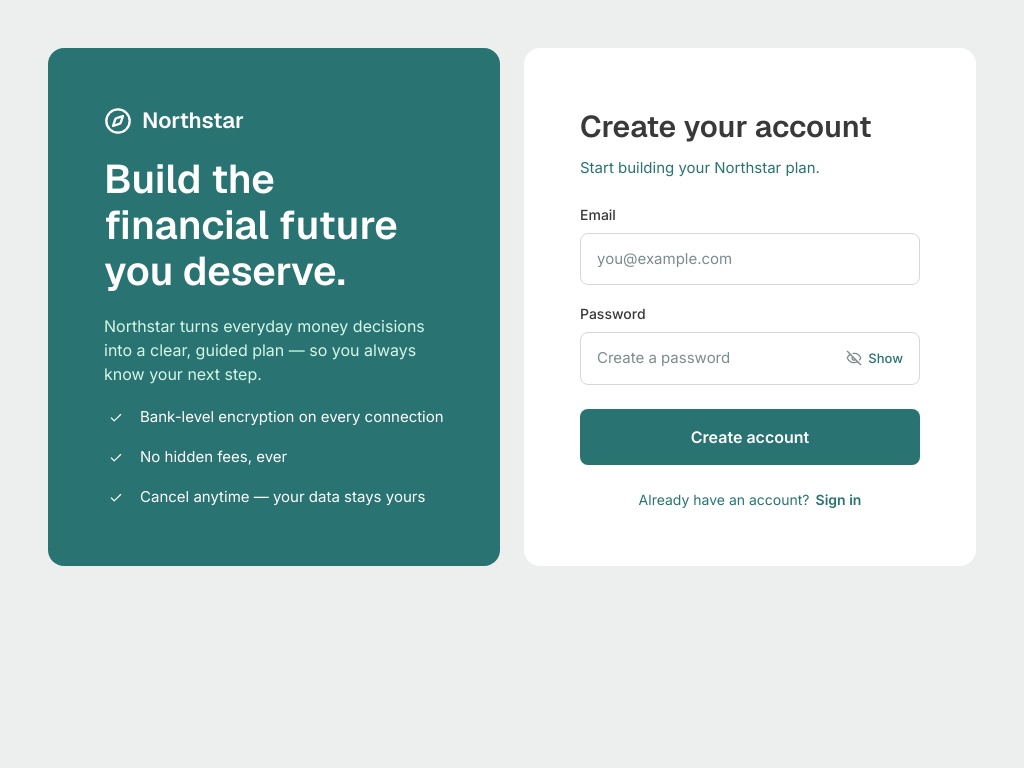
Test: an invalid registration › annotates a malformed email and contacts nobody (2.5)
The width and height of the screenshot is (1024, 768).
Step 1. Type "not-an-email" into the field labelled "Email" → x=750, y=259, box [597,248,903,270]
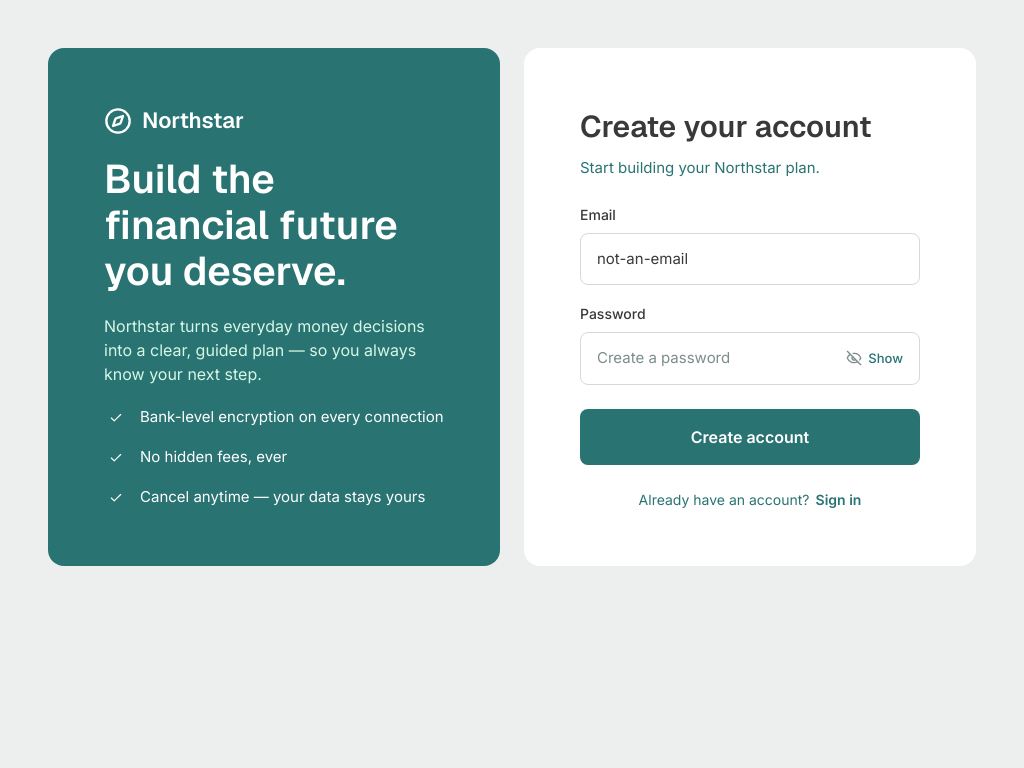
Step 2. Type "s3cret-pass" into the password field labelled "Password" → x=718, y=358, box [597,347,838,370]
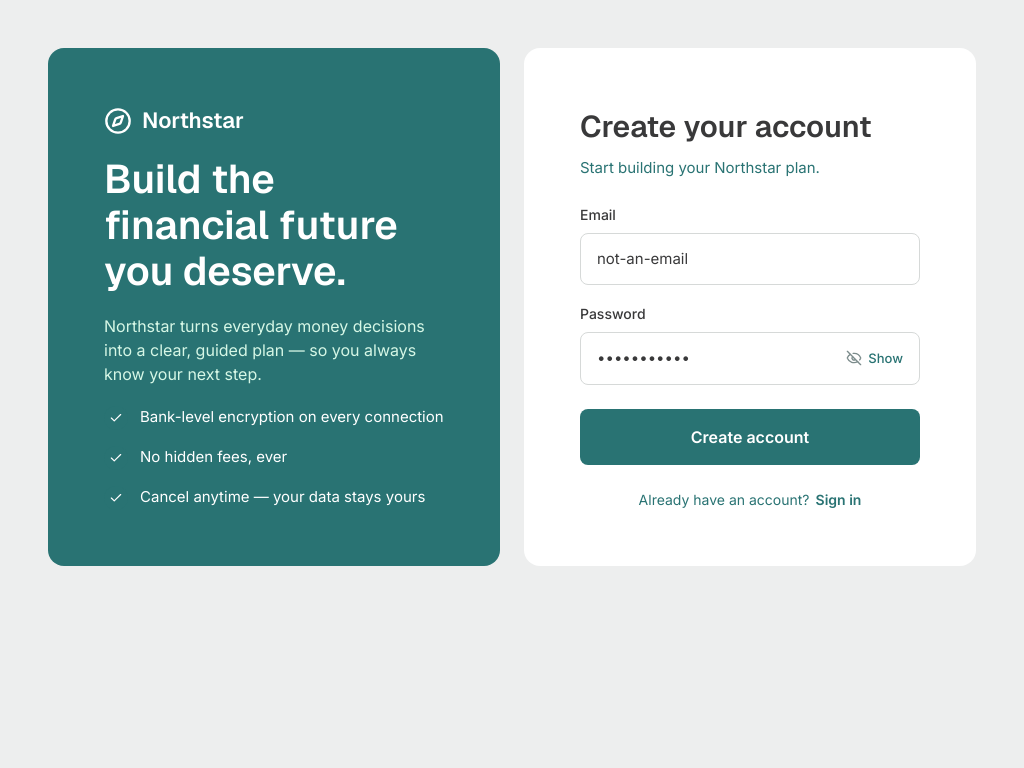
Step 3. Click the button "Create account" → x=750, y=436, box [580,408,920,464]
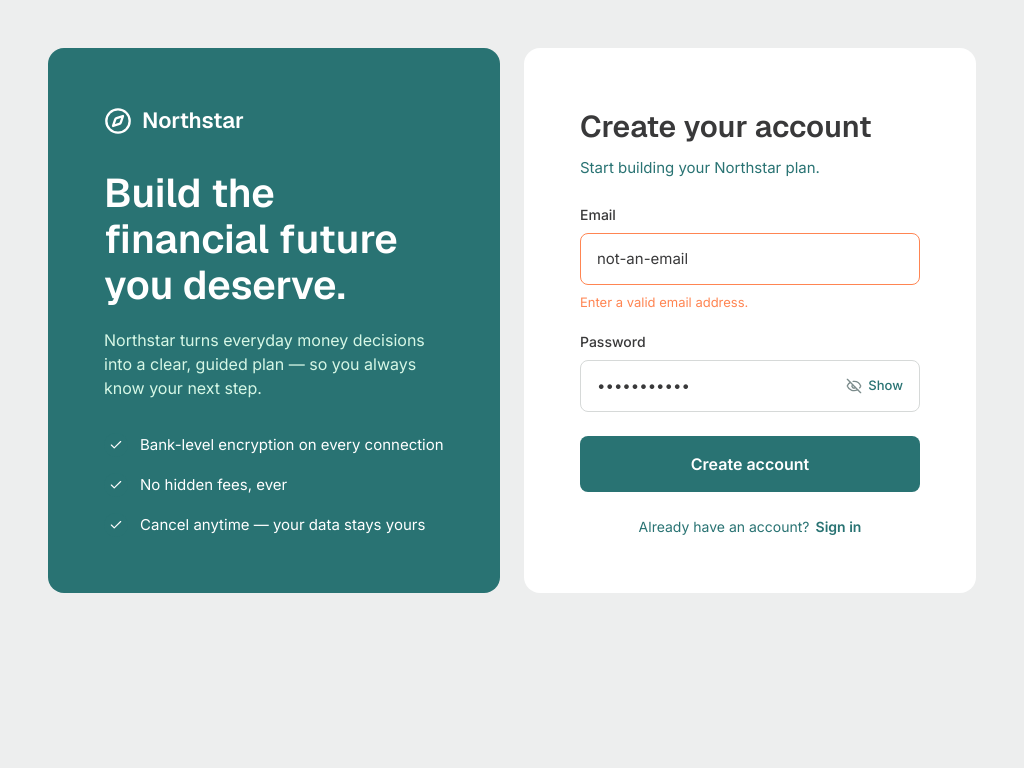
Check: the text "Enter a valid email address." is shown, box [580,294,748,310]
